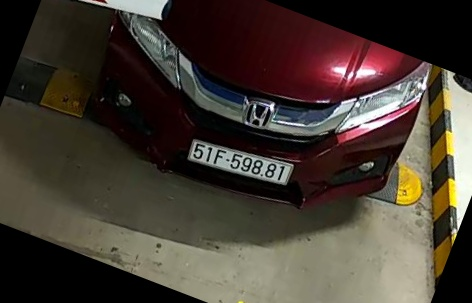plate: (187, 135, 296, 198)
